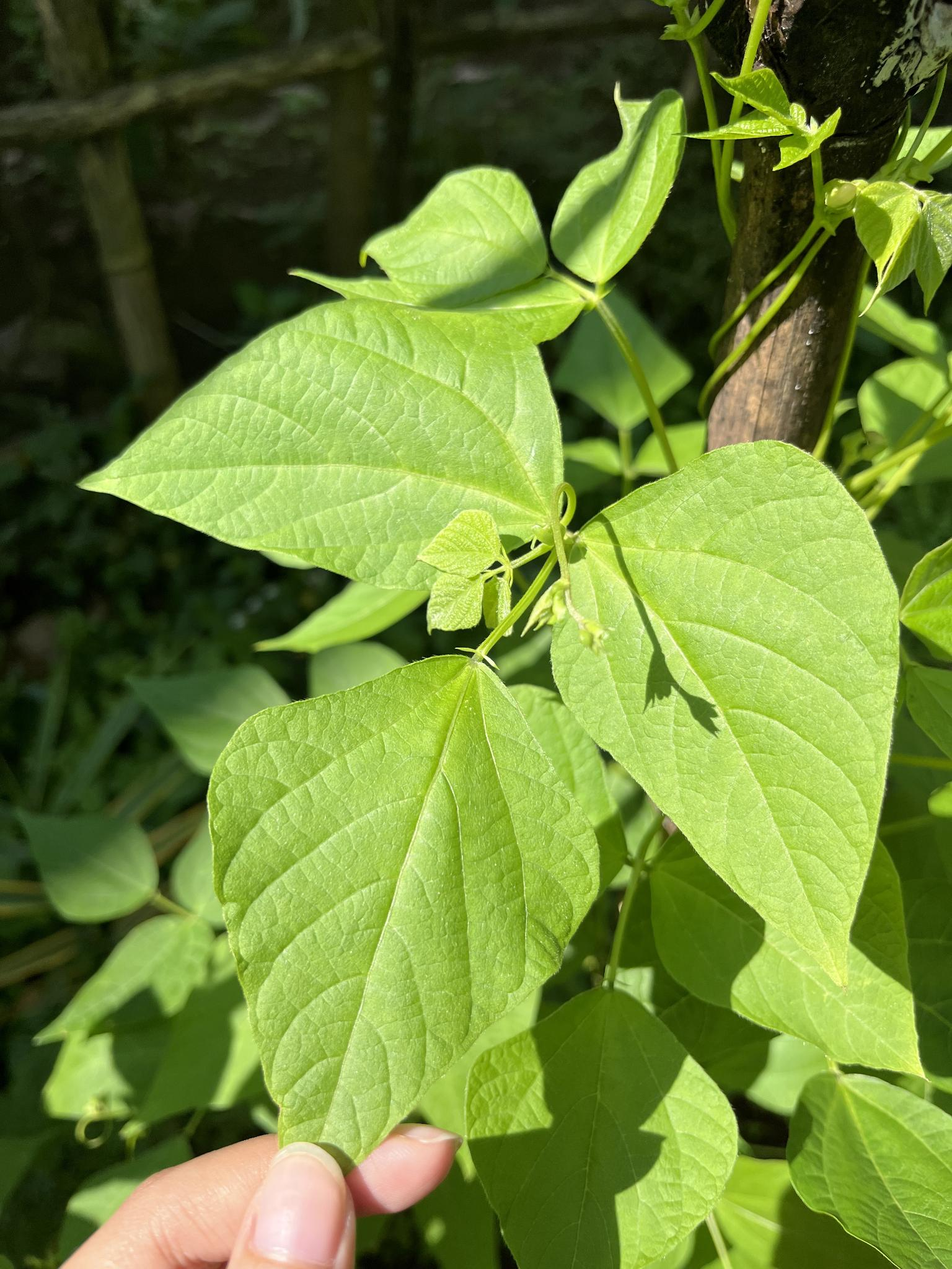sehat: (13, 259, 920, 1164)
